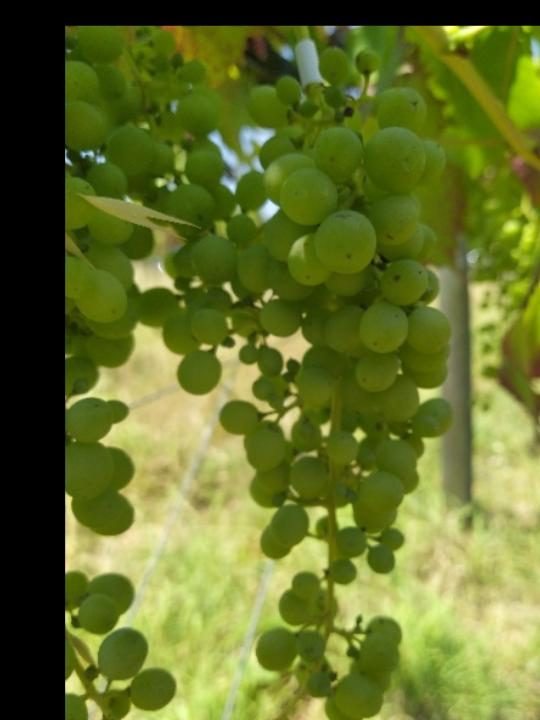grape: (134, 40, 457, 720)
